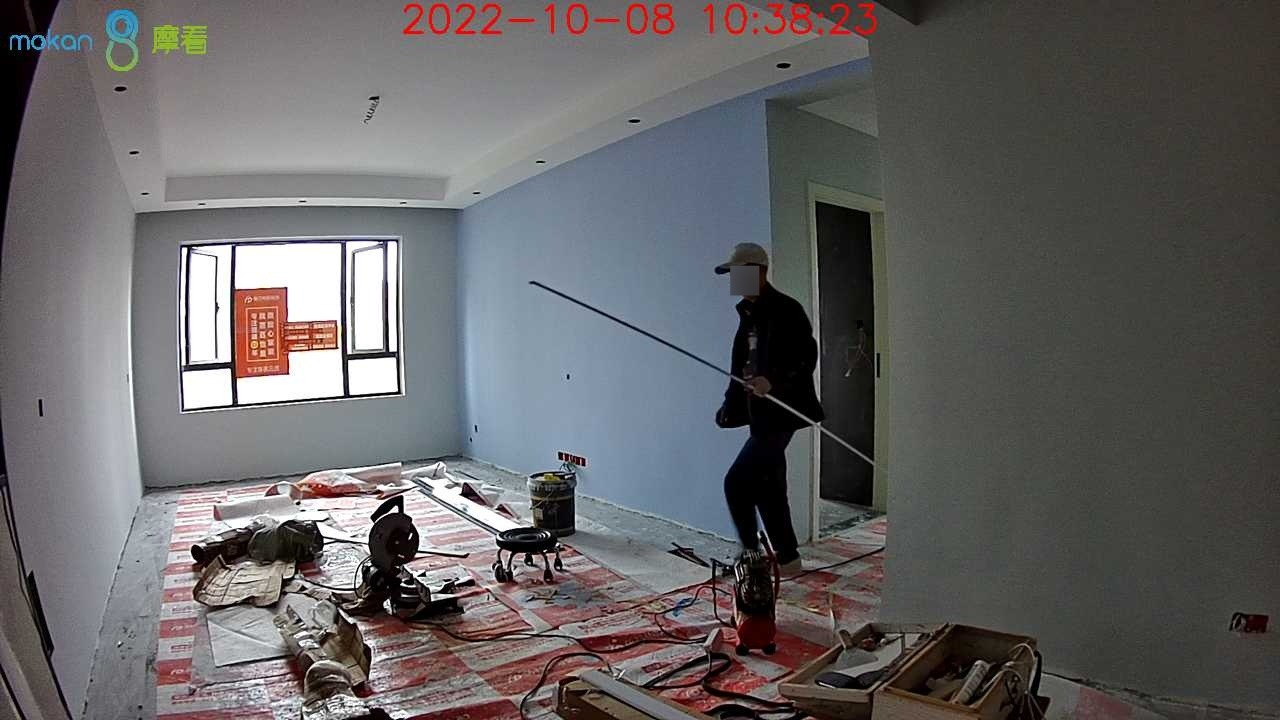people: (715, 241, 826, 573)
window: (184, 242, 406, 410)
